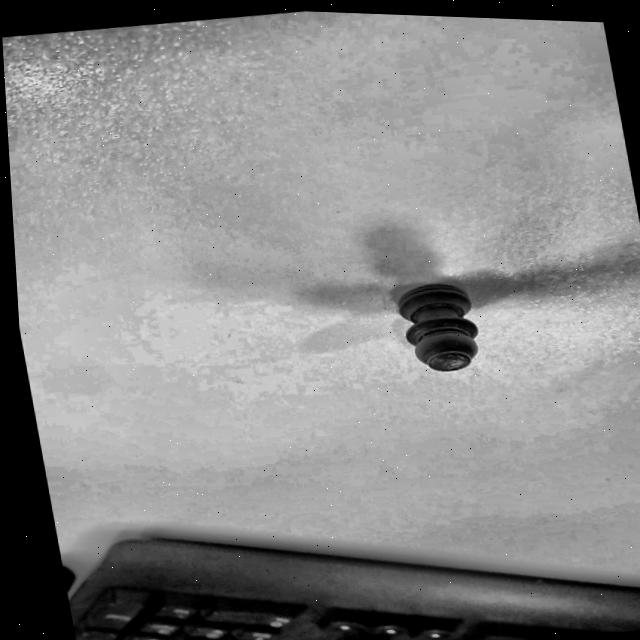black-bishop: (370, 273, 495, 384)
